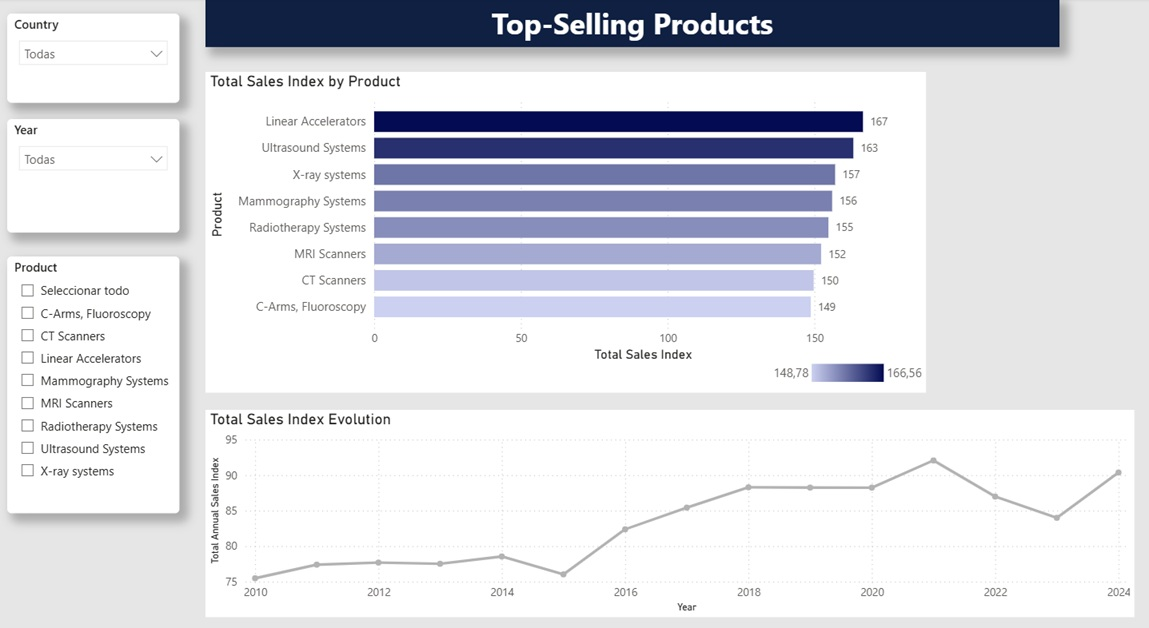

What the dashboard file says about the page in this screenshot:
{"tool":"powerbi","page":{"name":"Page 2","canvas":[1280,720],"ordinal":2},"visuals":[{"type":"slicer","title":"Country","fields":{"Values":["Countries.country"]},"box":[10.3,16.8,191.4,99],"z":0},{"type":"slicer","title":"Year","fields":{"Values":["Sales Forecast.year"]},"box":[10.3,133.5,191.4,126],"z":1000},{"type":"slicer","title":"Product","fields":{"Values":["Products.product_name"]},"box":[10.6,286.4,190.6,284.6],"z":2000},{"type":"clusteredBarChart","title":"Total Sales Index by Product","fields":{"Category":["Products.product_name"],"Y":["_Metrics.Total Annual Sales Index"]},"box":[230.6,81.6,798.9,355.8],"z":3000},{"type":"lineChart","title":"Total Sales Index Evolution","fields":{"Category":["Results.year"],"Y":["_Metrics.Total Annual Sales Index"]},"box":[230.6,456.4,1030.5,229.6],"z":4000},{"type":"textbox","box":[230.6,0,946.7,54.2],"z":5000}]}

Visuals, with their boxes in screenshot pixels (x1, y1, x2, y2), scaled from the page's 1280x720 canvas onto the 1149x628 screenshot:
"Country" slicer: bbox=[9, 15, 181, 101]
"Year" slicer: bbox=[9, 116, 181, 226]
"Product" slicer: bbox=[10, 250, 181, 498]
"Total Sales Index by Product" clusteredBarChart: bbox=[207, 71, 924, 382]
"Total Sales Index Evolution" lineChart: bbox=[207, 398, 1132, 598]
textbox: bbox=[207, 0, 1057, 47]
